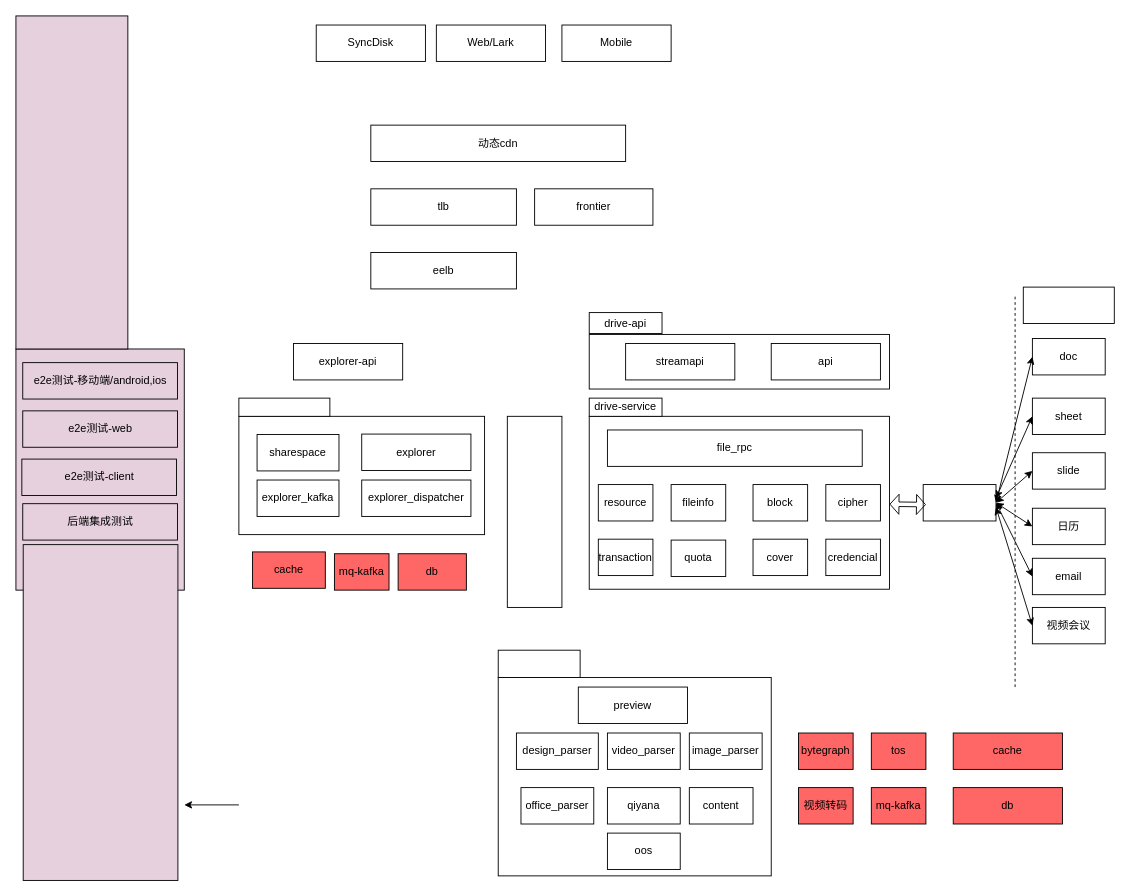
Some shapes in this 1130 by 896 pixel diagram are drawn without their labels. The shapes that lost their labels are listed below. From the top down, each one's centre as x and y in pixels, then its label:
(71,182): 测试构建-持续建设中
(1068,305): 接入第三方业务
(284,406): explorer-service
(534,511): sync_ctl
(959,502): Integration
(538,663): preview-rpc
(100,712): dashboard
